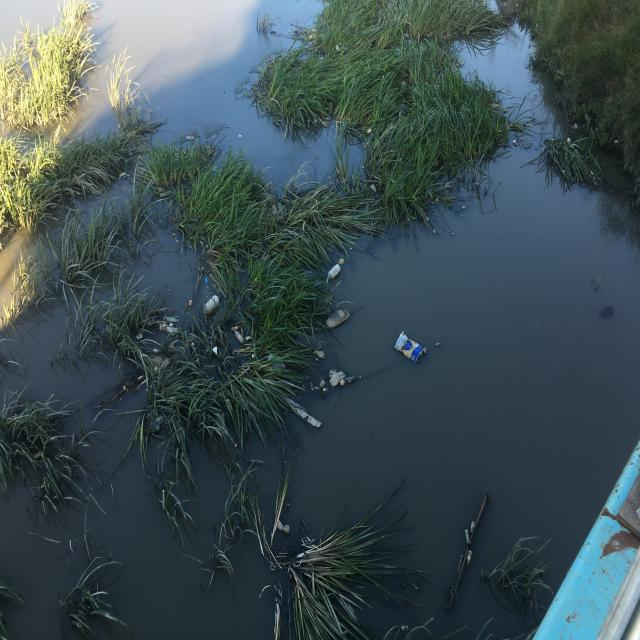Can: (162, 322, 170, 329), (188, 298, 193, 307)
Plastic bag: (122, 366, 140, 392)
Plastic bottle: (203, 293, 220, 314), (267, 354, 286, 369), (326, 263, 341, 281), (234, 329, 245, 344), (274, 518, 284, 531), (166, 315, 180, 323), (165, 326, 179, 334), (283, 524, 291, 534), (230, 326, 242, 331)
Plastic packaging: (392, 328, 429, 366)
Undefined trash: (324, 308, 352, 329), (328, 369, 348, 388)
Wood: (90, 351, 172, 429)
